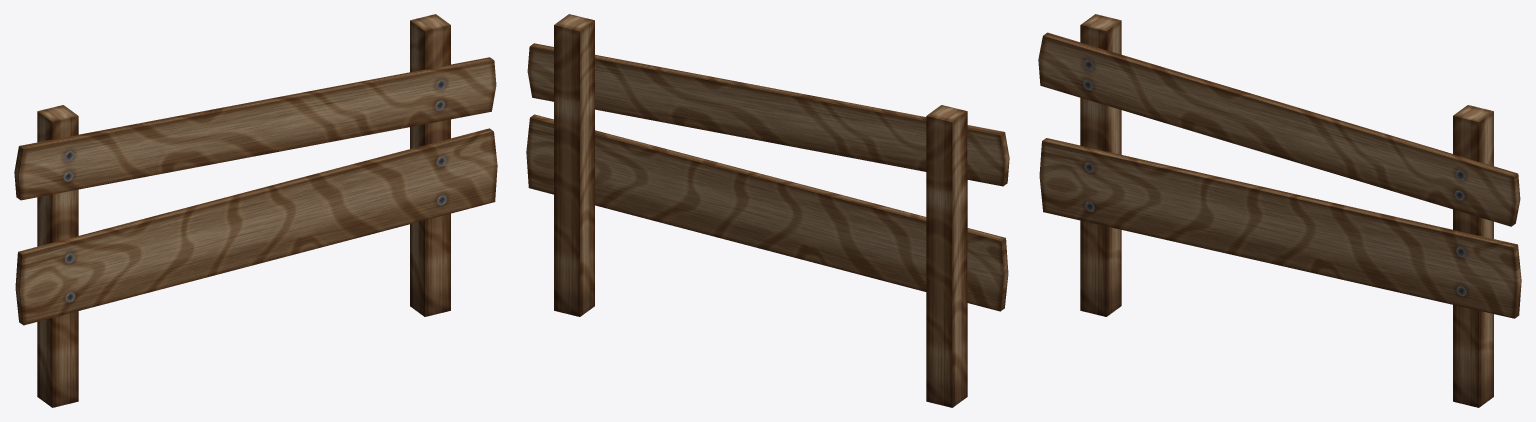
The model's file is FenceB.fbx.
3 renders of one model, left to right at view 1: azimuth 30°, elevation 25°; view 2: azimuth 150°, elevation 25°; view 3: azimuth 330°, elevation 25°, orthographic.
Visible parts, largest first — view 1: FenceB; view 2: FenceB; view 3: FenceB.
Part boxes in pixels (x1,y1,x2,y2): FenceB: (14,14,497,407); FenceB: (526,14,1009,407); FenceB: (1038,14,1521,407).
Bounding box in the file's own units: 4.24 × 2.42 × 0.2956.
